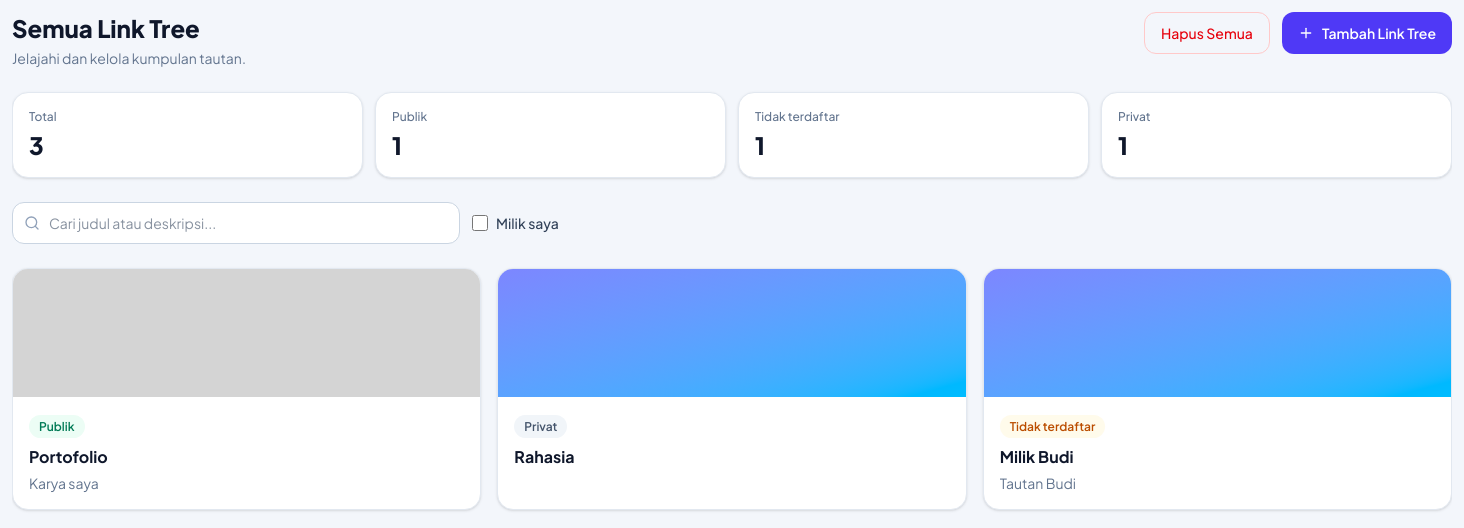
Test case: HomePage › filter 'Milik saya' kosong bila profil belum ada
Expected: the heading "Portofolio" is shown, left=29, top=446, right=108, bottom=467
Click the checkbox labelled "Milik saya" at (480, 223), box left=472, top=215, right=488, bottom=231
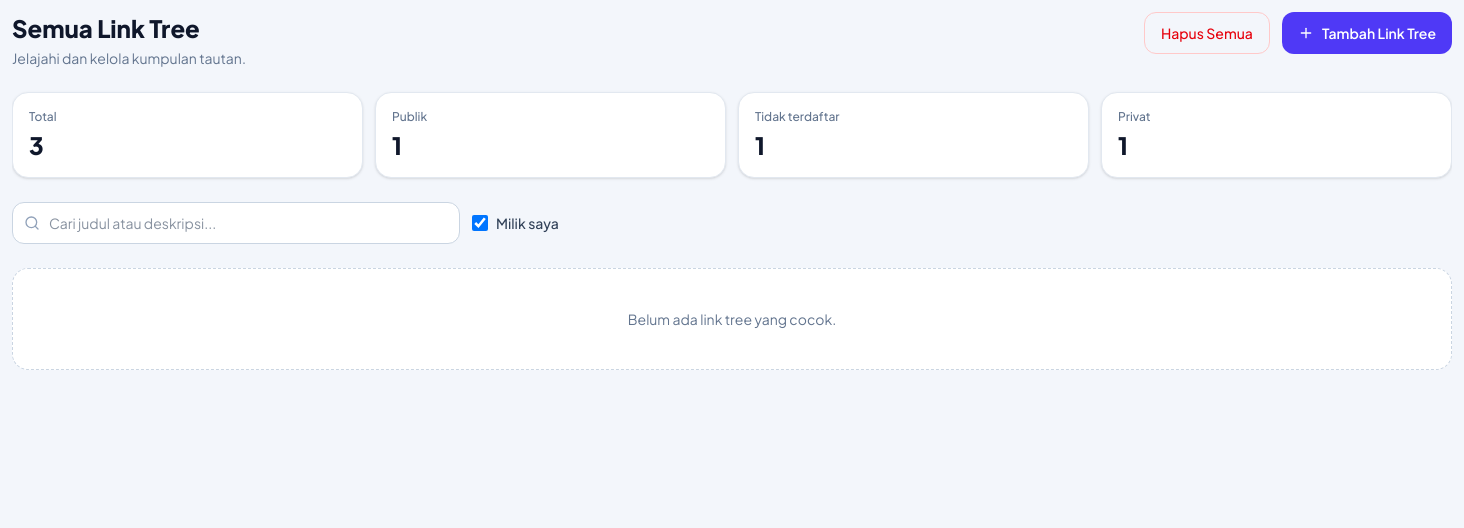
Result: the text "Belum ada link tree yang cocok." is shown at left=12, top=268, right=1452, bottom=370
